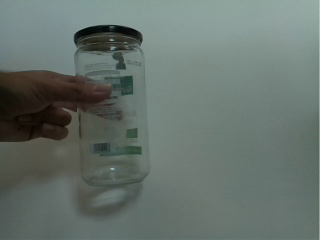pote cristal: (72, 23, 156, 189)
